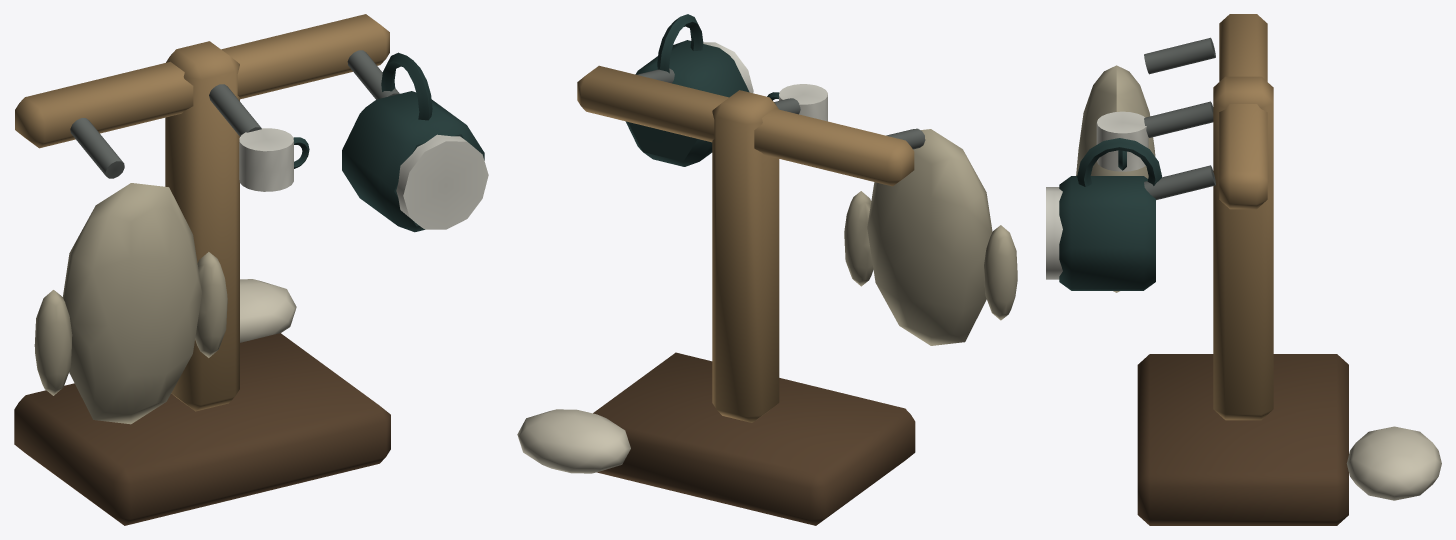
File: coat_hooks_a.glb
The picture shows the model from 3 angles, left to right: view 1: azimuth 30°, elevation 25°; view 2: azimuth 150°, elevation 25°; view 3: azimuth 270°, elevation 25°; orthographic projection. The views are drawn at different scales.
Visible parts, largest first — view 1: Surface; view 2: Surface; view 3: Surface.
Boxes of the visible parts, bbox=[...] form: Surface: bbox=[14, 14, 488, 525]; Surface: bbox=[517, 14, 1017, 525]; Surface: bbox=[1046, 14, 1441, 525].
Size of the model in its own units: 1.53 by 1.44 by 1.31.
